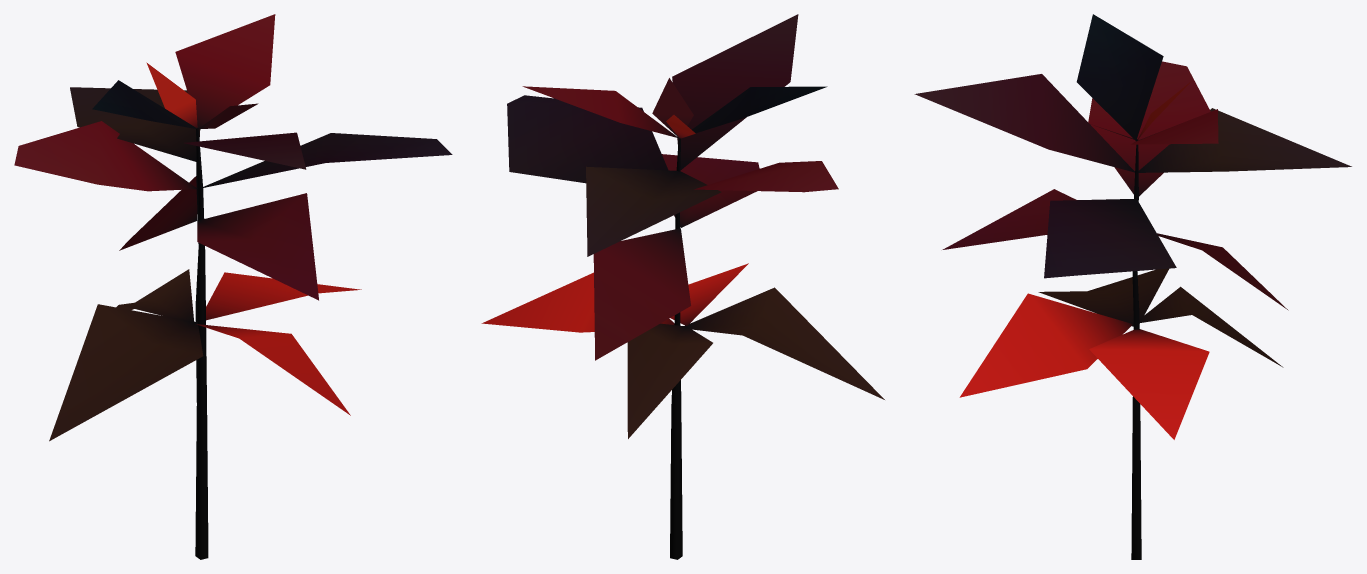
Rendered from Nettle.fbx.
The picture shows the model from 3 angles, left to right: view 1: azimuth 30°, elevation 25°; view 2: azimuth 150°, elevation 25°; view 3: azimuth 270°, elevation 25°; orthographic projection. The views are drawn at different scales.
Visible parts, largest first — view 1: Nettle; view 2: Nettle; view 3: Nettle.
Part boxes in pixels (<box>): Nettle: <box>14,14,452,559</box>; Nettle: <box>481,14,884,559</box>; Nettle: <box>914,14,1351,559</box>.
Size of the model in its own units: 62.46 by 76.52 by 63.15.
